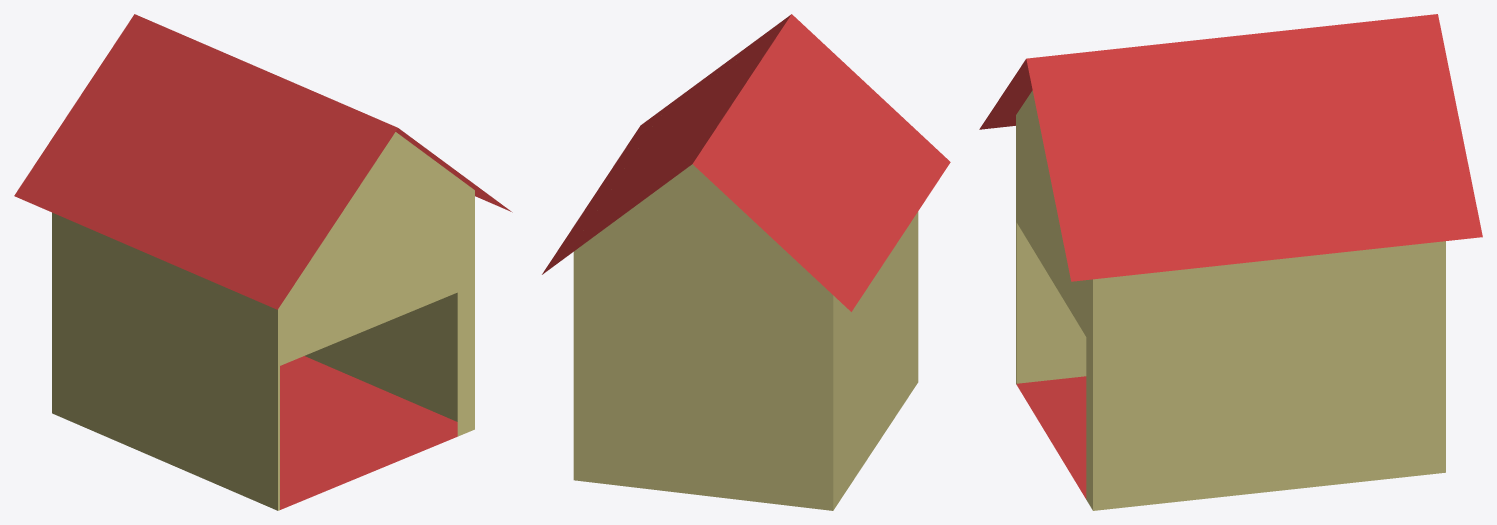
3 renders of one model, left to right at view 1: azimuth 30°, elevation 25°; view 2: azimuth 150°, elevation 25°; view 3: azimuth 270°, elevation 25°, orthographic. The views are drawn at different scales.
Size of the model in its own units: 15.33 by 16.61 by 14.33.
